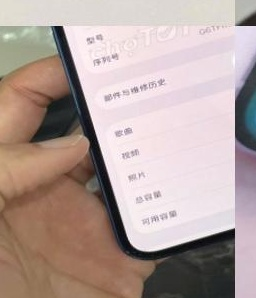scratch: (235, 0, 256, 13)
